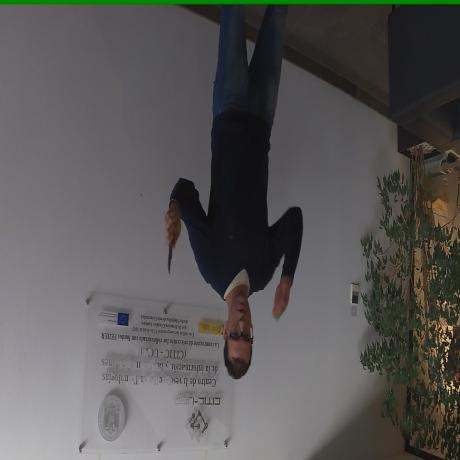1: (174, 17, 302, 379)
weapon: (166, 212, 176, 276)
